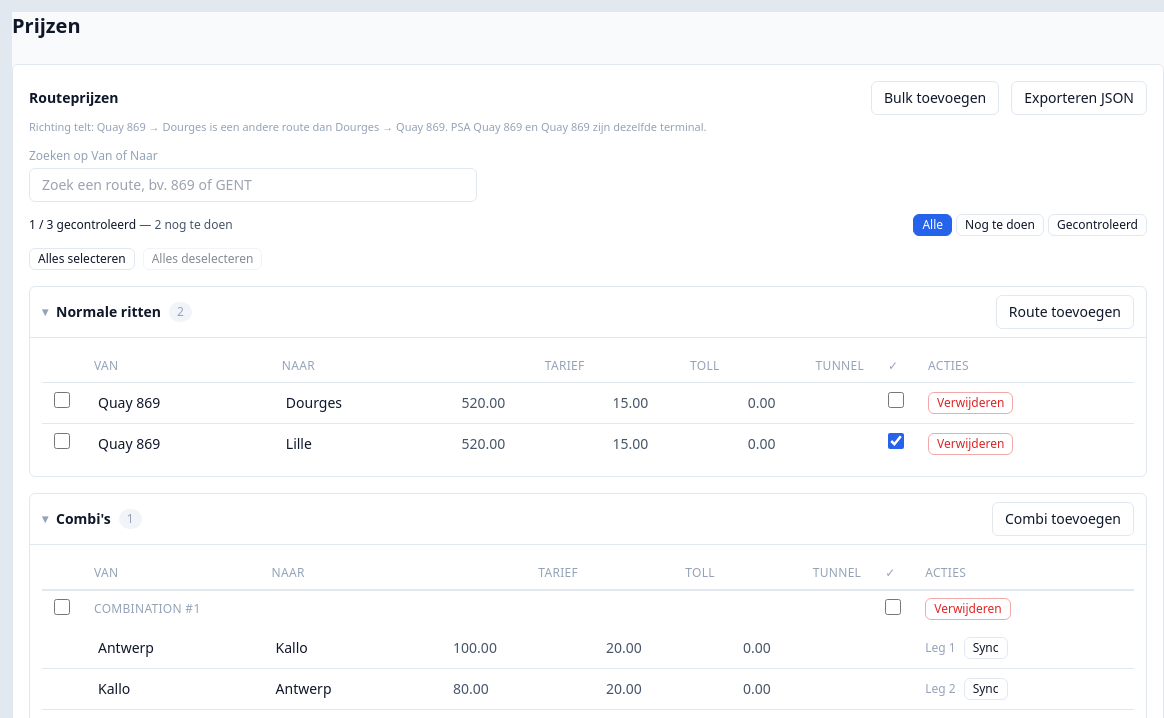
selecting › shows the delete button only once something is selected, with the count
Expected: the button "Lille" is shown, [282,432,434,456]
Expected: the button "Geselecteerde verwijderen" is not shown
Click the checkbox named "Selecteren: Quay 869 Dourges": (62, 400) [54,392,70,408]
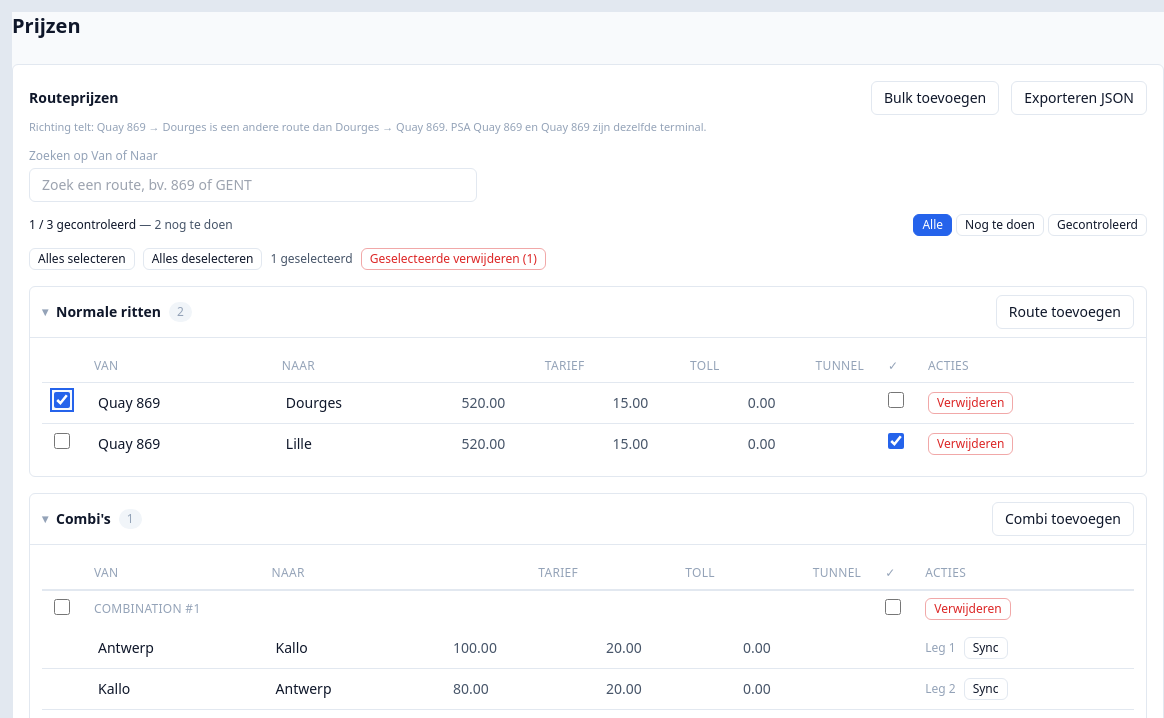
Click the checkbox named "Selecteren: Combination #1": (62, 606) [54,598,70,614]
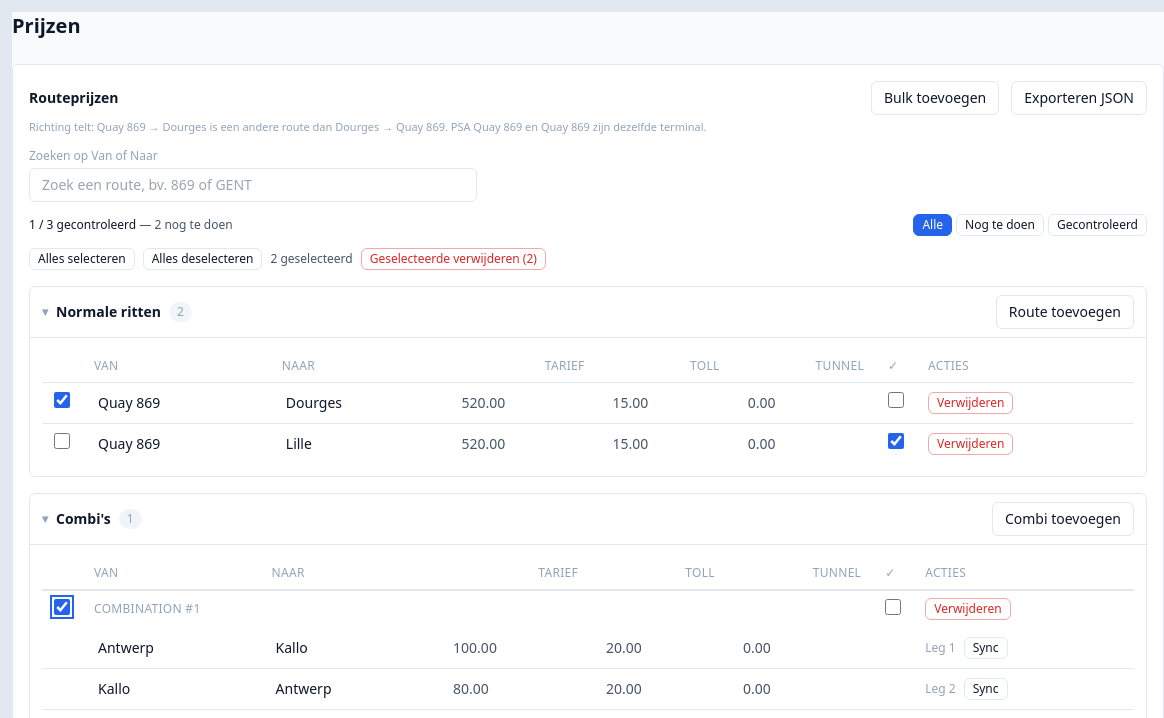
Now the button "Geselecteerde verwijderen (2)" is shown, box [361,248,546,270]
Now the text "2 geselecteerd" is shown, box [270,250,353,266]
